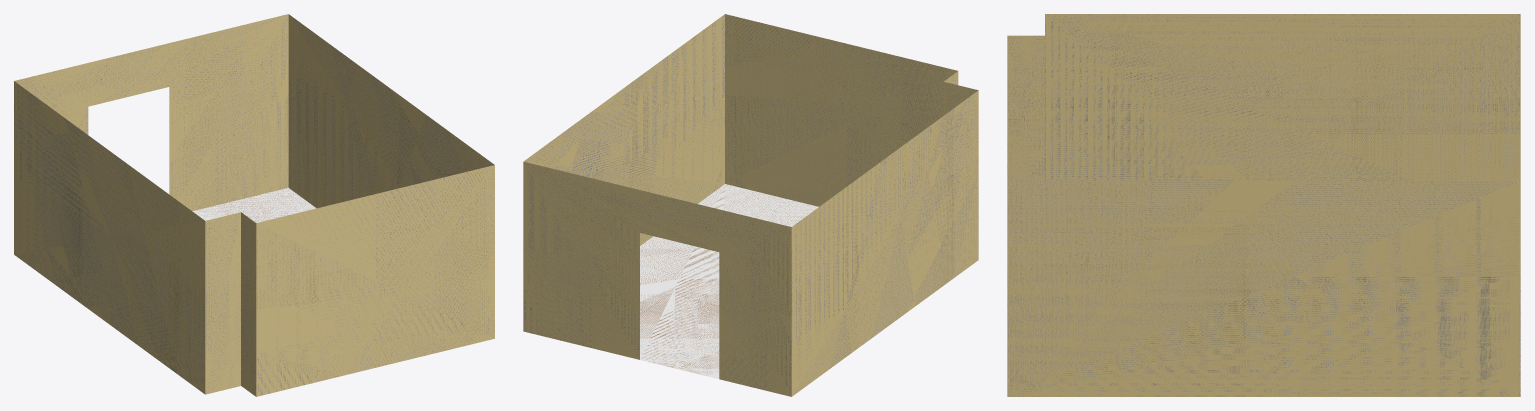
Rendered from COM004.obj.
3 views of the same model, side by side, from view 1: azimuth 30°, elevation 25°; view 2: azimuth 150°, elevation 25°; view 3: azimuth 270°, elevation 25° (orthographic). The views are drawn at different scales.
Parts seen in each view (by area): view 1: Mesh1 COM004 Model; view 2: Mesh1 COM004 Model; view 3: Mesh1 COM004 Model.
Part boxes in pixels (<box>): Mesh1 COM004 Model: <box>14,14,494,396</box>; Mesh1 COM004 Model: <box>523,14,978,396</box>; Mesh1 COM004 Model: <box>1007,14,1520,396</box>.
Size of the model in its own units: 4.92 by 2.98 by 6.4.
4 materials, 2 textured.
